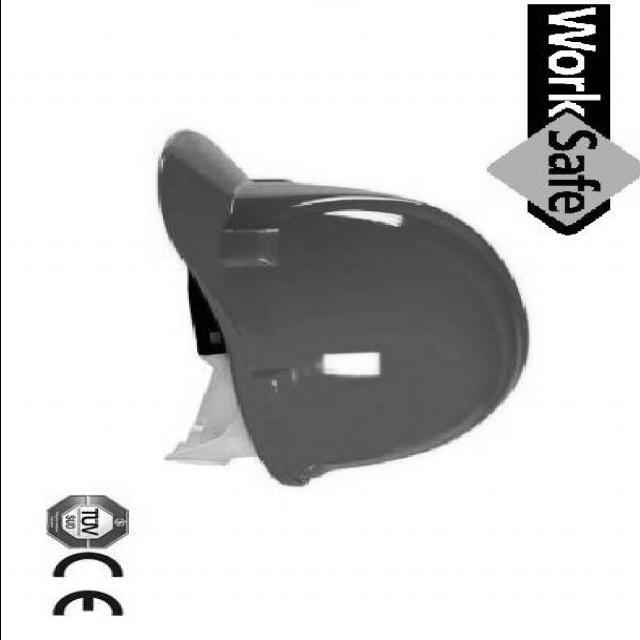safety_helmet: (154, 127, 528, 489)
